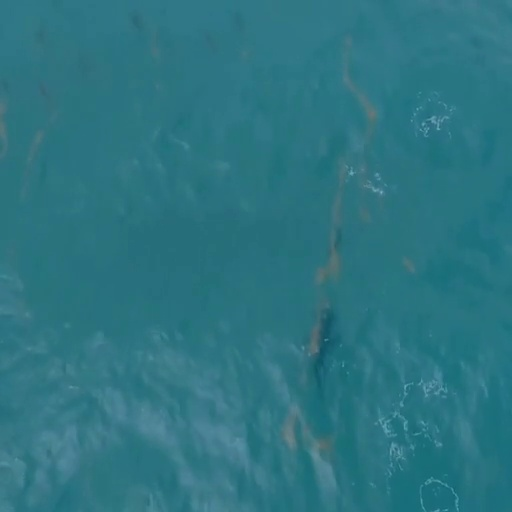shark: (308, 306, 344, 398)
